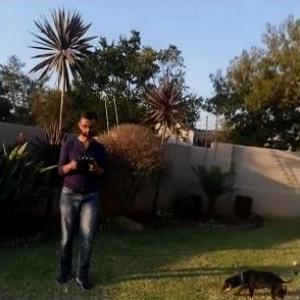follow: (51, 103, 109, 294)
null: (218, 260, 298, 299)
